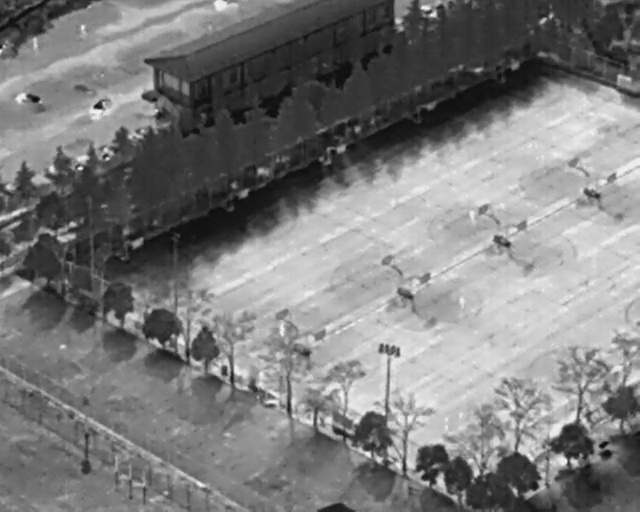Car: (11, 83, 49, 122), (86, 93, 115, 124)
Person: (78, 21, 87, 41), (30, 36, 38, 54), (458, 295, 467, 310), (468, 208, 476, 224)
